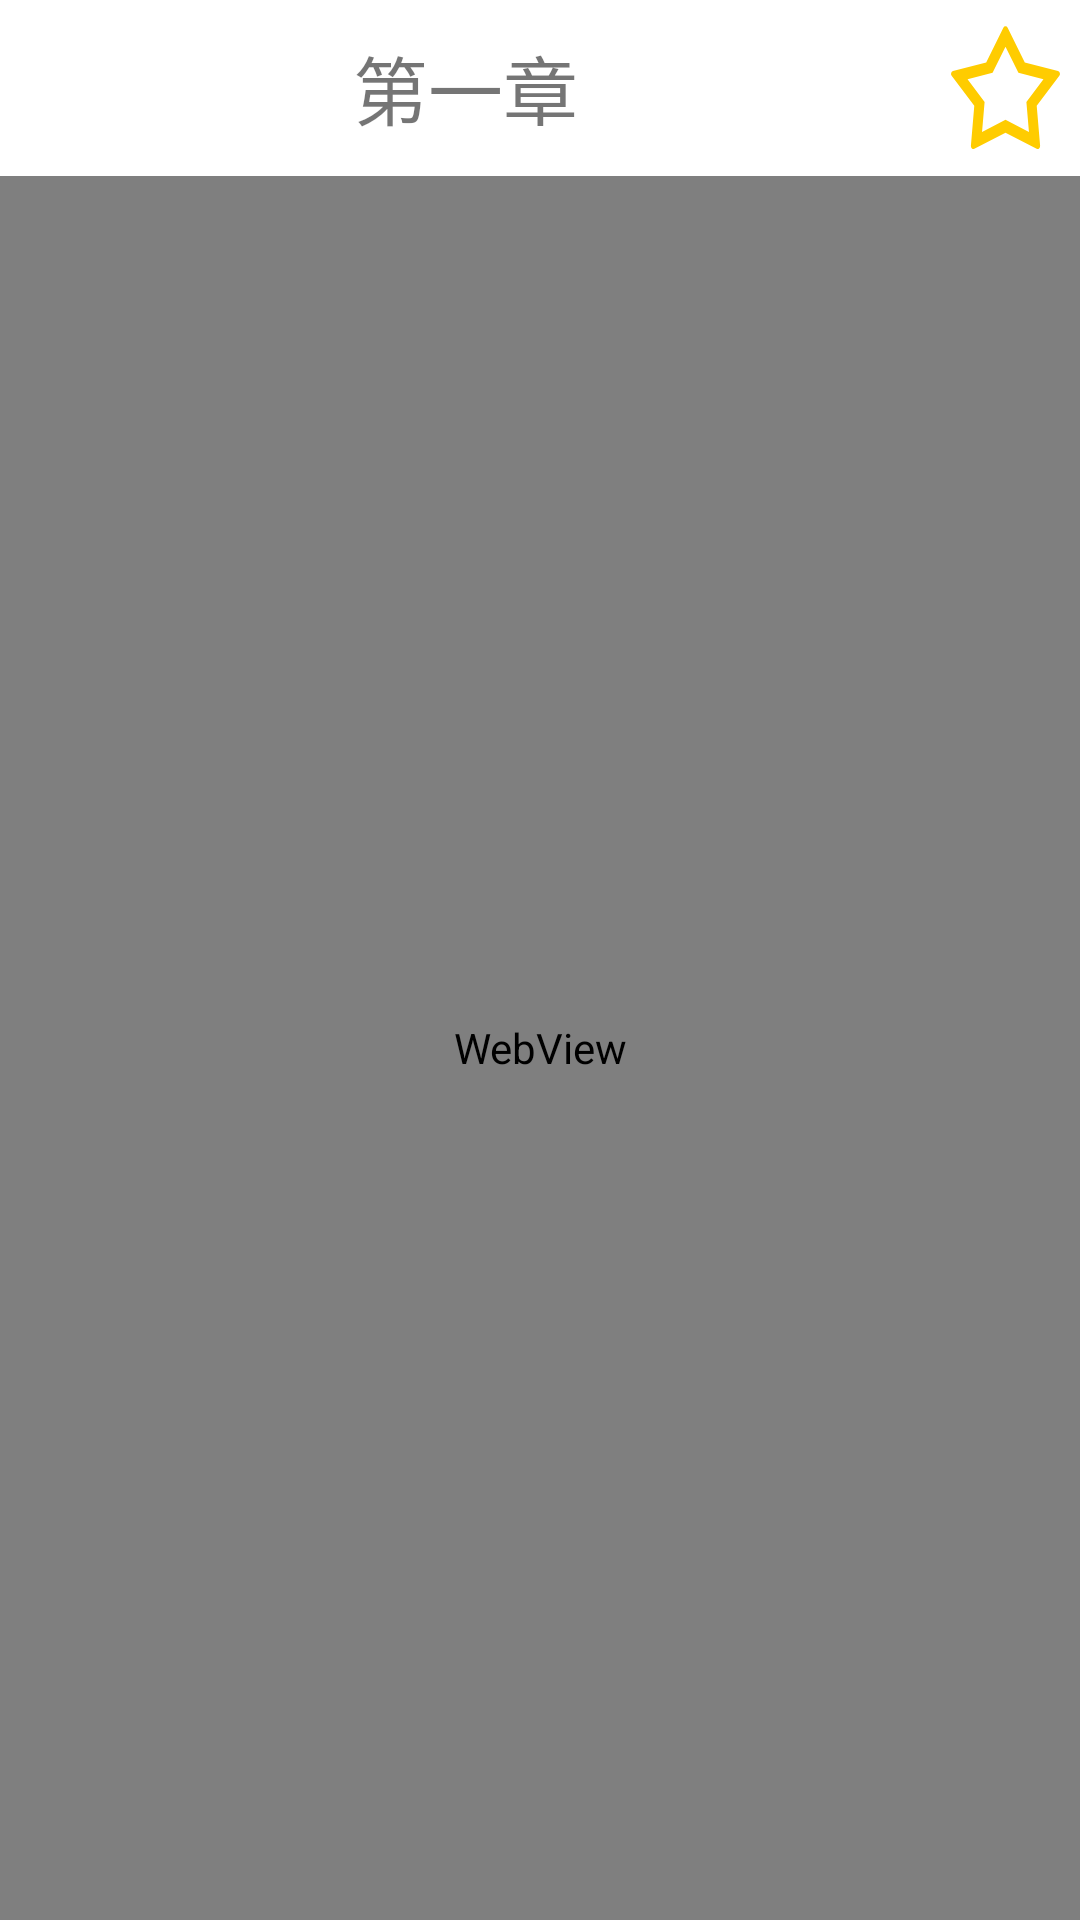

Screen size 1080×1920. Icon name, then its center in pixels as [x,y]:
no collection: [1005,87]
